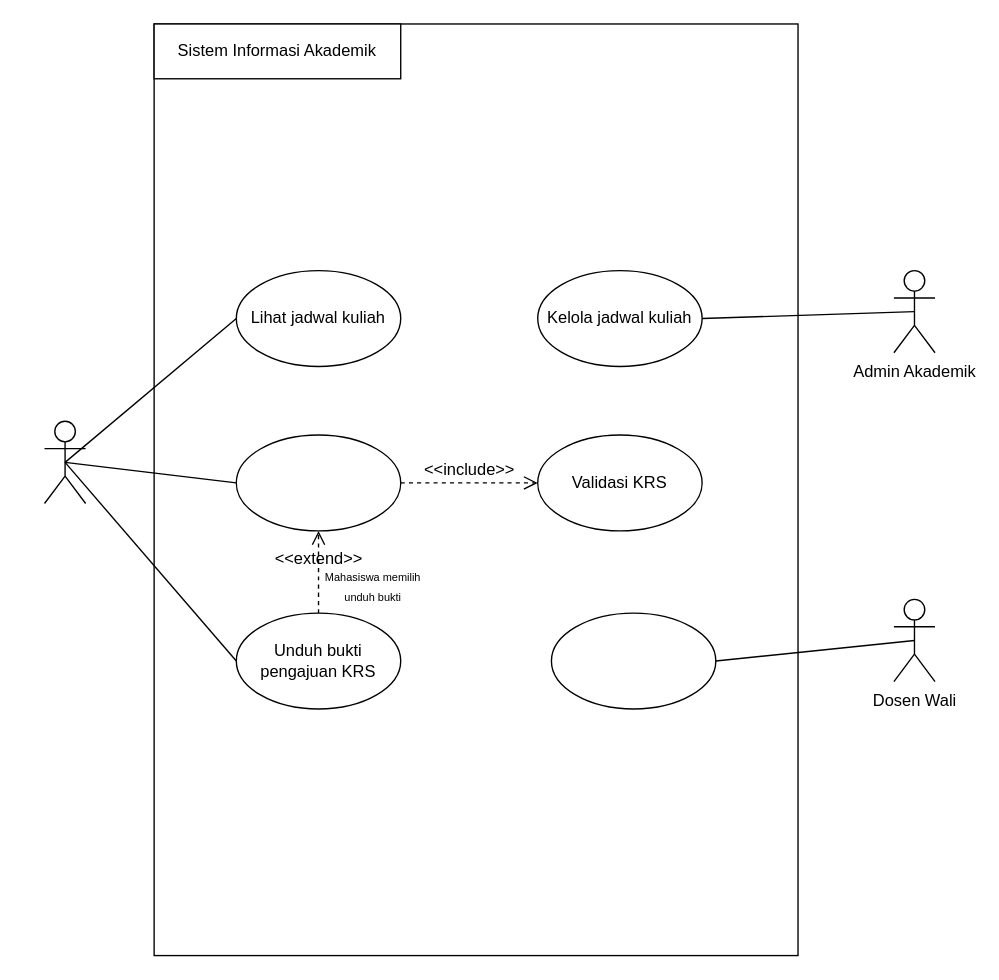
Some shapes in this 999 by 980 pixel diagram are drawn without their labels. The shapes that lost their labels are listed below. From the top down, each one's centre as x and y in pixels, then its label:
pixel 64 461: Mahasiswa
pixel 318 482: Ajukan KRS
pixel 633 660: Proses keputusan KRS
